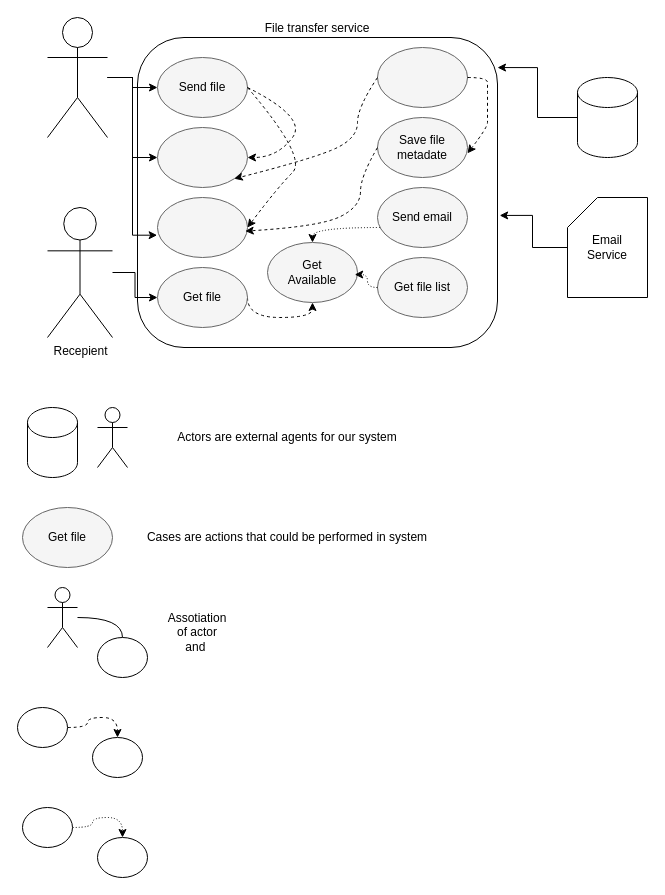
The diagram is 665 pixels wide and 895 high, and some of its shapes have lost their labels. The centre of each missing label's shape, as x and y in pixels:
"Sender" belongs at point 77,77.
"Specify Recepient" belongs at point 202,227.
"Storage" belongs at point 607,117.
"Store file" belongs at point 422,77.
"Upload File" belongs at point 202,157.
